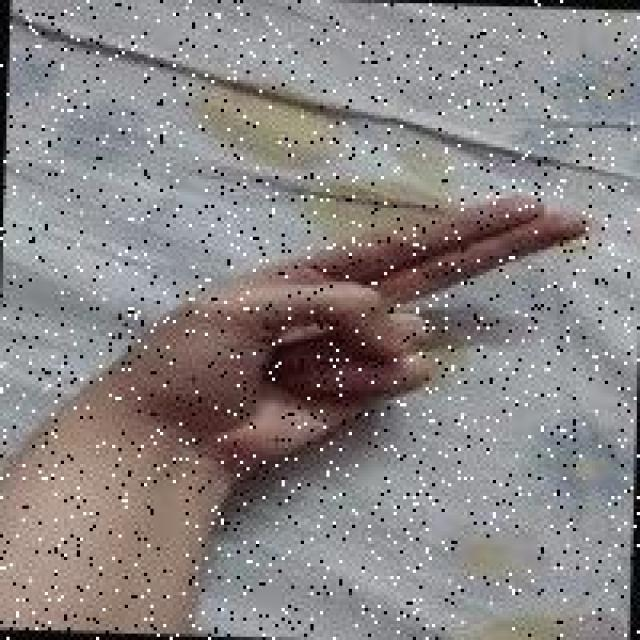H: (126, 176, 597, 477)
